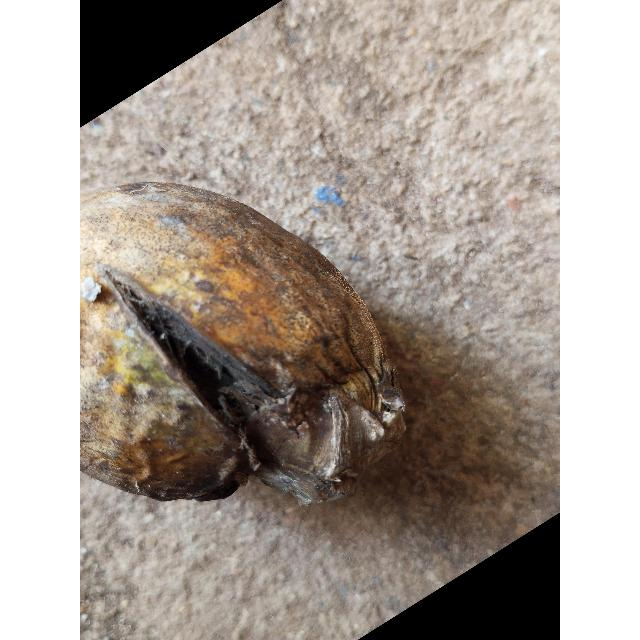damaged: (80, 176, 411, 510)
